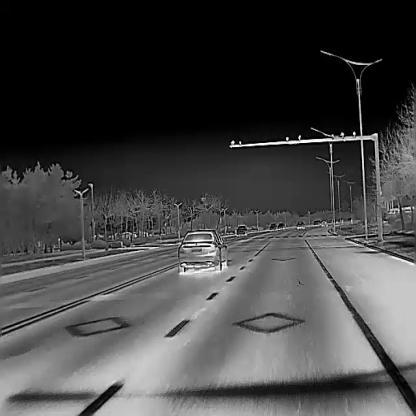car: (177, 229, 227, 272), (120, 230, 135, 239), (235, 224, 247, 235), (296, 220, 305, 228), (269, 222, 276, 229), (313, 219, 320, 226), (320, 220, 327, 227), (278, 223, 284, 228)
